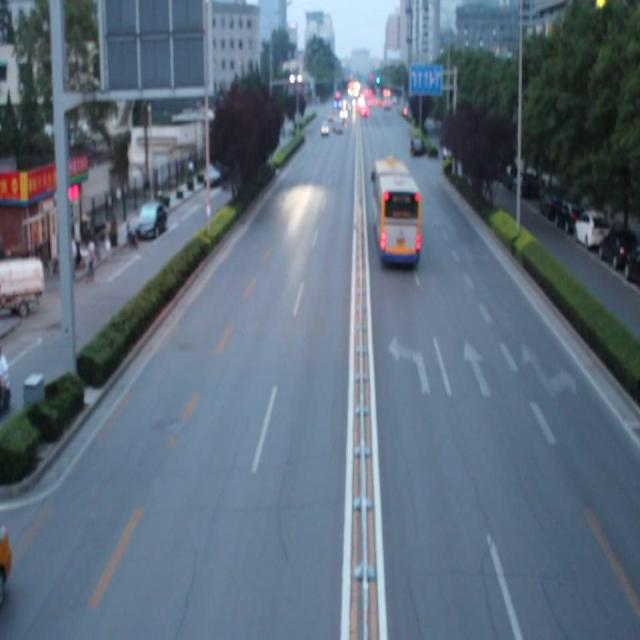van: (373, 158, 418, 262)
